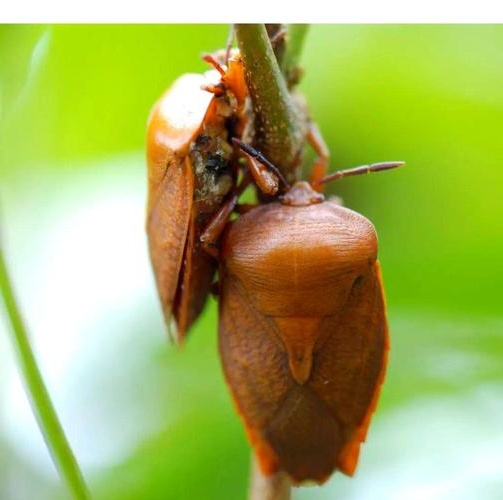Stink_Bug: (226, 188, 376, 478), (137, 60, 265, 313)
